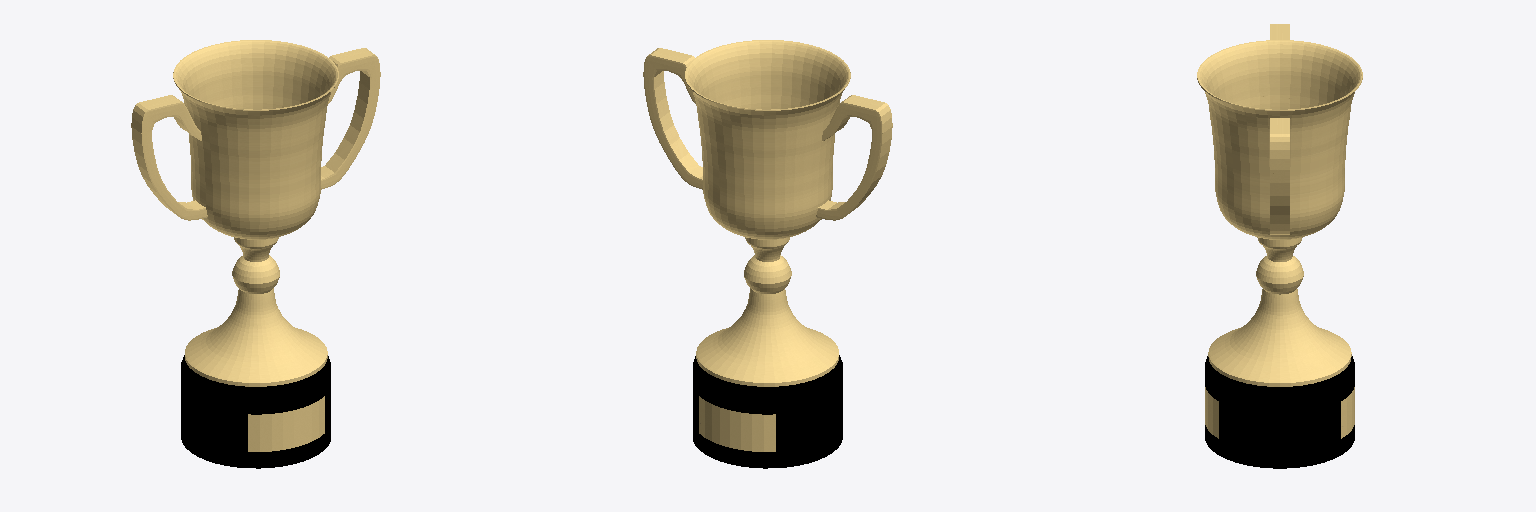
3 renders of one model, left to right at view 1: azimuth 30°, elevation 25°; view 2: azimuth 150°, elevation 25°; view 3: azimuth 270°, elevation 25°, orthographic.
Visible parts, largest first — view 1: pPipe1, pCylinder1, pCylinder2, pCube1, pCube3, pSphere1; view 2: pPipe1, pCylinder1, pCylinder2, pCube1, pCube3, pSphere1; view 3: pPipe1, pCylinder1, pCylinder2, pCube1, pSphere1.
Part boxes in pixels (x1,y1,x2,y2): pPipe1: (173,40,338,239); pCylinder1: (181,355,330,468); pCylinder2: (185,237,327,386); pCube1: (321,48,380,189); pCube3: (131,95,207,220); pSphere1: (232,255,279,293); pPipe1: (685,40,850,239); pCylinder1: (693,355,842,468); pCylinder2: (696,237,838,386); pCube1: (643,48,702,189); pCube3: (816,95,892,220); pSphere1: (744,255,791,293); pPipe1: (1197,40,1362,239); pCylinder1: (1205,356,1354,468); pCylinder2: (1208,237,1351,386); pCube1: (1270,118,1289,234); pSphere1: (1256,256,1303,294).
Bounding box in the file's own units: 6.59 × 9.54 × 3.97.
Materials: 6 (6 with a texture image).